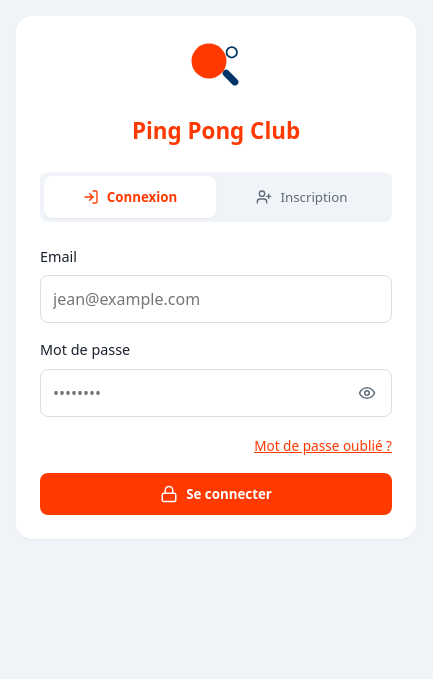
Login › affiche une erreur si le nom est vide en mode inscription
Click the button "Inscription" at coordinates (302, 197), box [216,176,388,218]
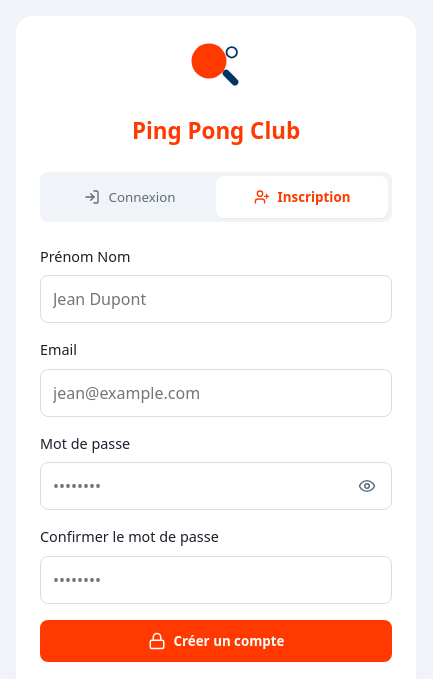
# inputs: nom, email, password, confirm
Type "test@test.com" into the field with placeholder "jean@example.com" at coordinates (216, 393), box [40,369,392,417]
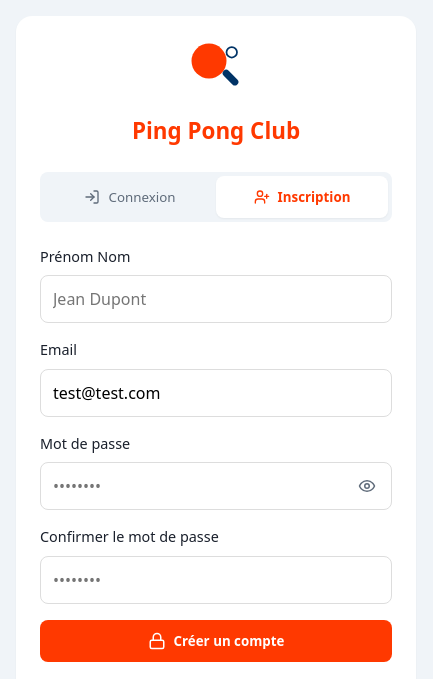
Type "password123" into the 1st password field with placeholder "••••••••" at coordinates (216, 486), box [40,462,392,510]
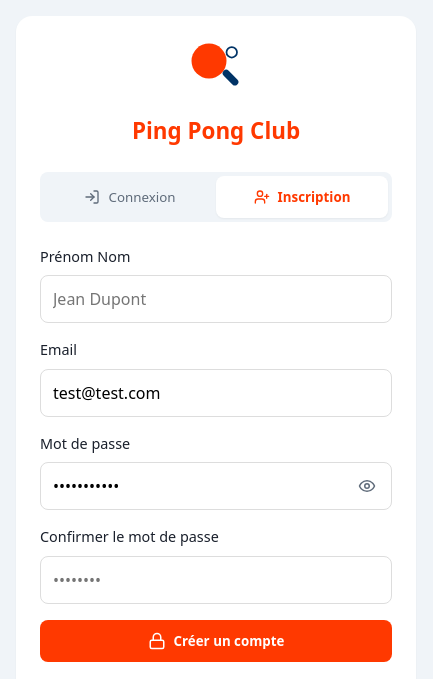
Type "password123" into the password field with placeholder "••••••••" at coordinates (216, 580), box [40,556,392,604]
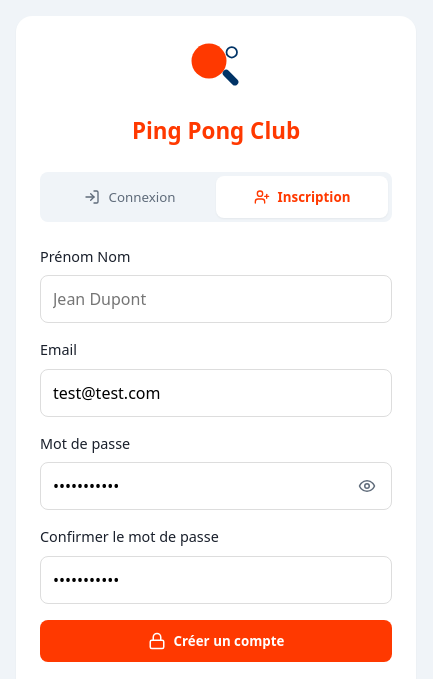
Submit the form, box [40,246,392,662]
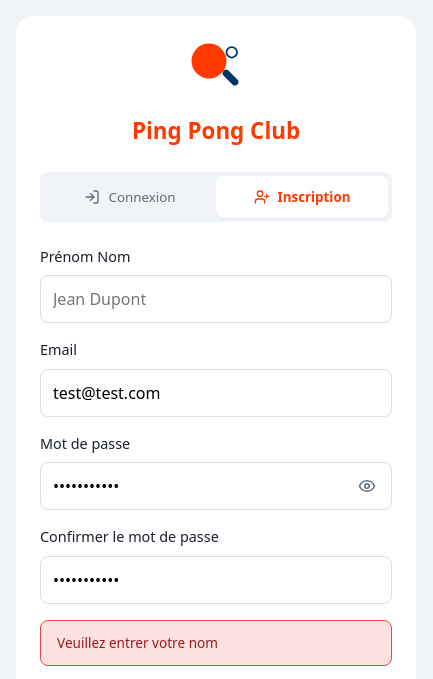
Now the text "Veuillez entrer votre nom" is shown, box [40,620,392,666]
